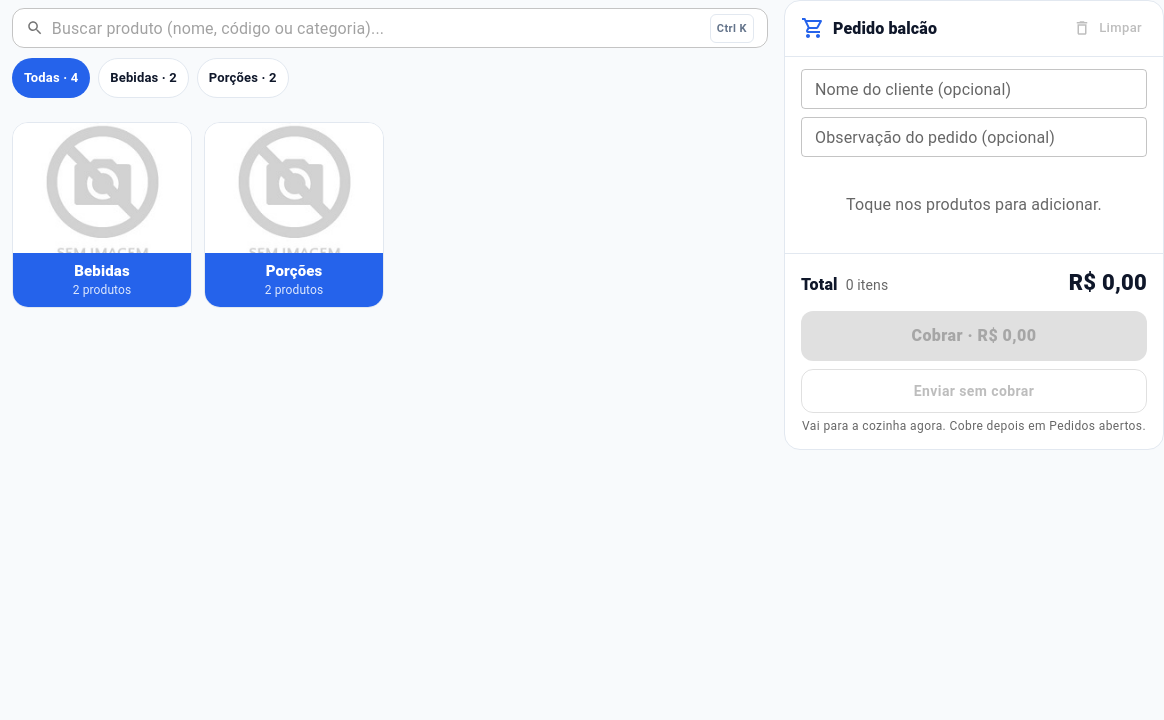
Test case: PDV de balcão › finaliza uma vez, envia o pedido real e mantém o carrinho se a rede falhar
The image size is (1164, 720).
What coordinates should you click on to do the following:
click the button with aria-label "Ver produtos de Bebidas"
I would click on:
 (102, 215)
Its box is [12, 122, 192, 308].
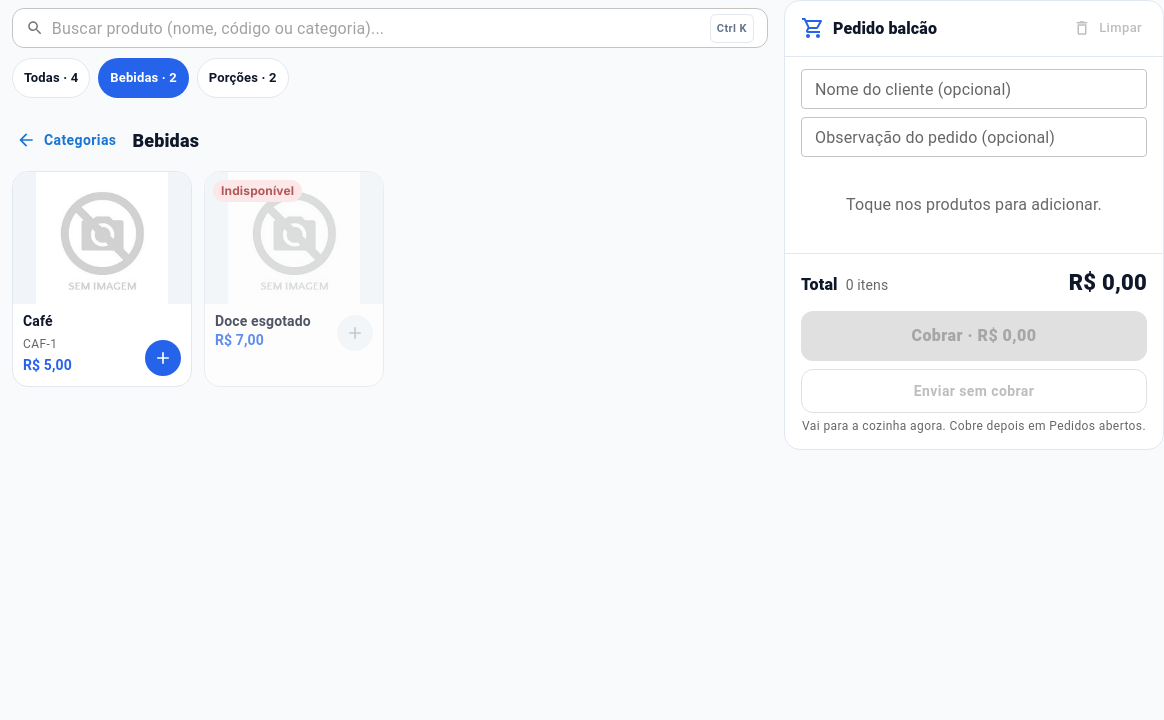
What coordinates should you click on to do the following:
click the button named "Adicionar Café"
I would click on:
 (163, 358)
Its box is [145, 340, 181, 376].
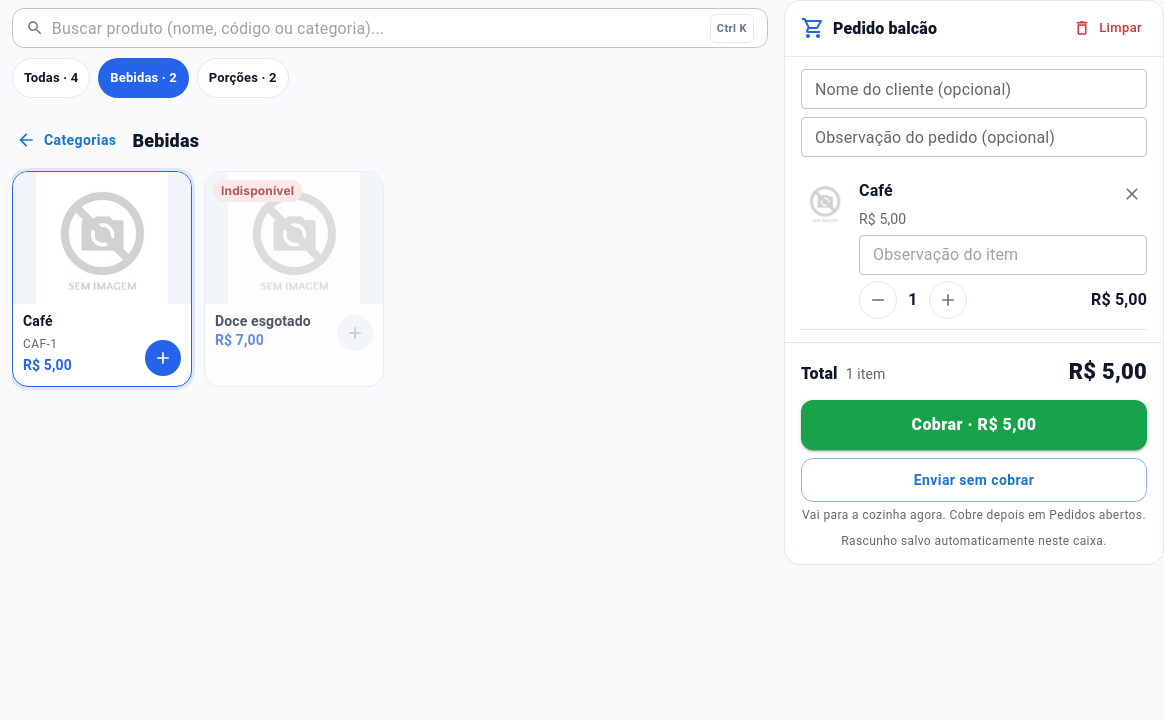
What coordinates should you click on to do the following:
click the button "Cobrar · R$ 5,00"
I would click on:
 (974, 425)
Its box is [801, 400, 1147, 450].
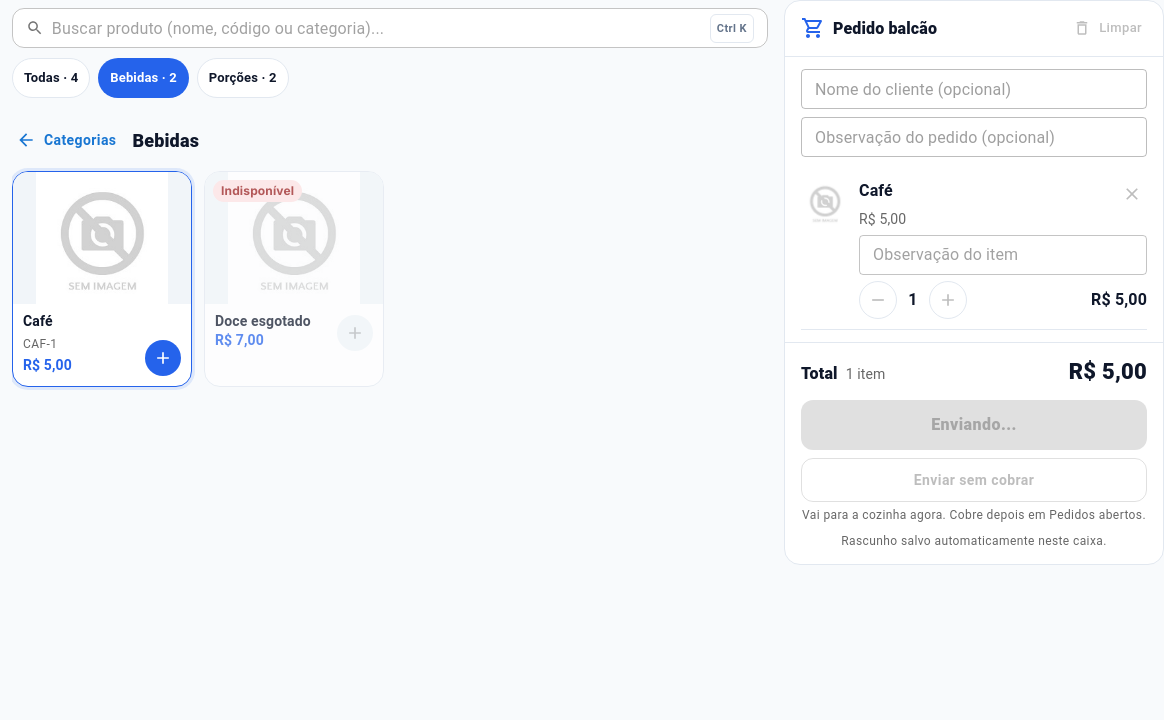
What coordinates should you click on to do the following:
click the button named "Cobrar"
I would click on:
 (974, 425)
Its box is [801, 400, 1147, 450].
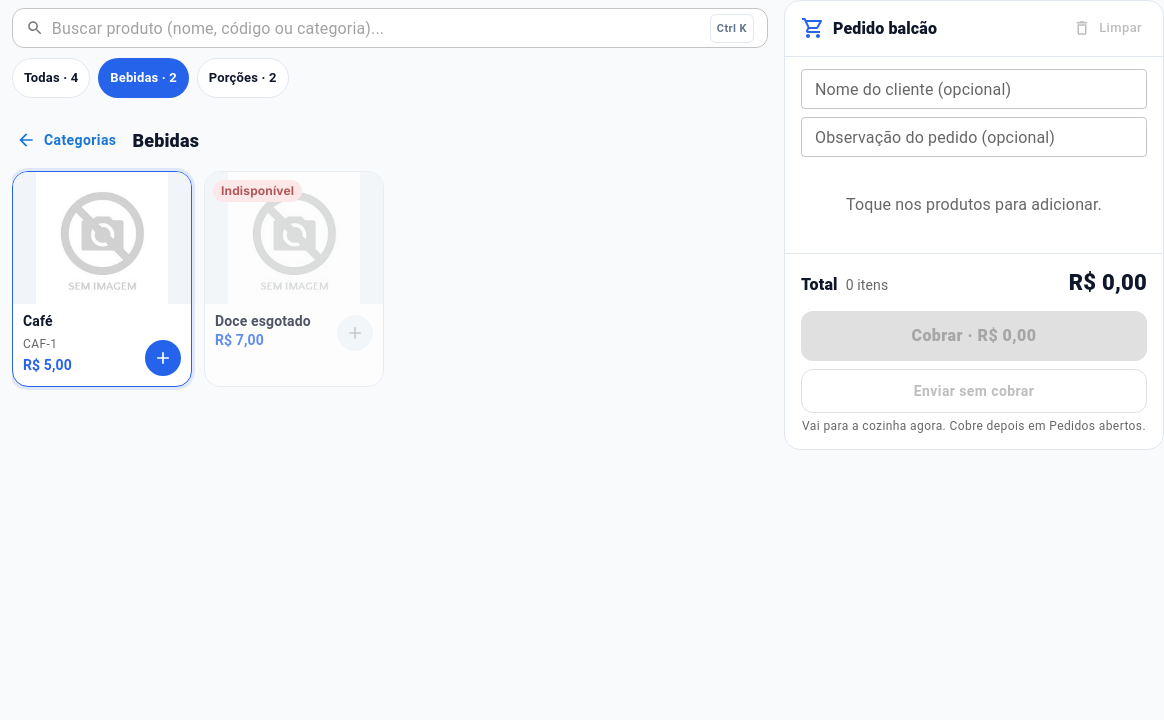
What coordinates should you click on to do the following:
click the button named "Adicionar Café"
I would click on:
 (163, 358)
Its box is [145, 340, 181, 376].
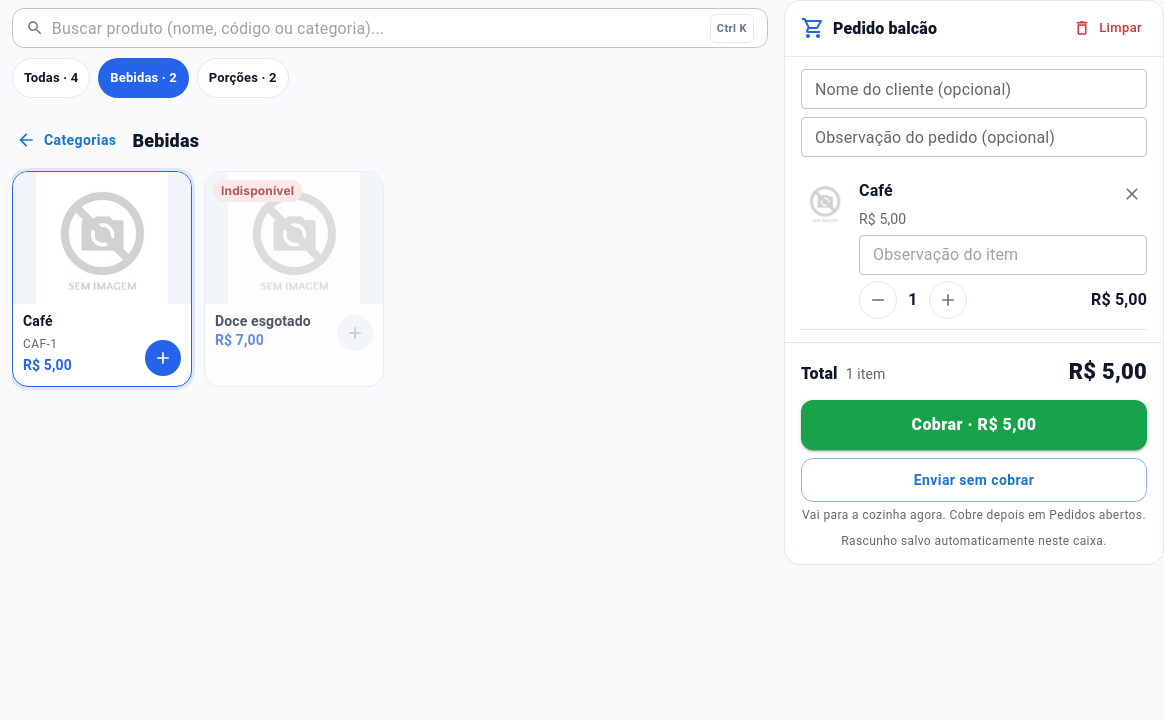
What coordinates should you click on to do the following:
click the button "Enviar sem cobrar"
I would click on:
 (974, 480)
Its box is [801, 458, 1147, 502].
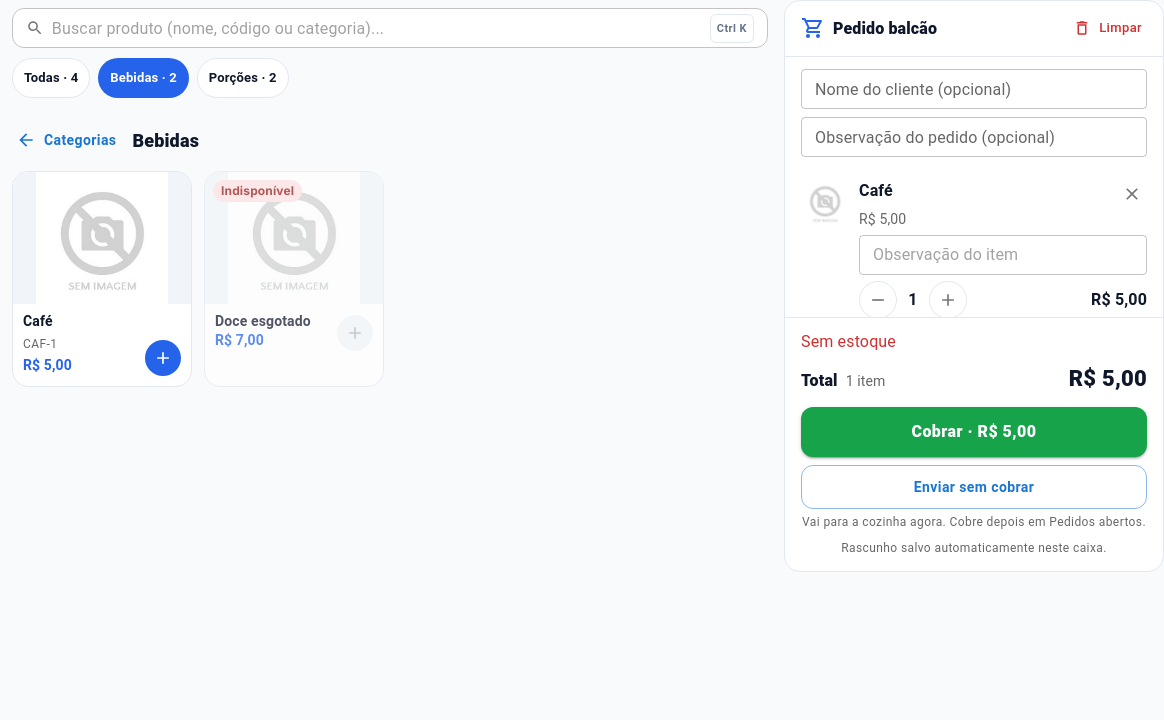
expect the text named "Quantidade de Café" is shown: met, box [908, 290, 918, 309]
expect the message "Sem estoque" is shown: met, box [801, 332, 896, 351]
